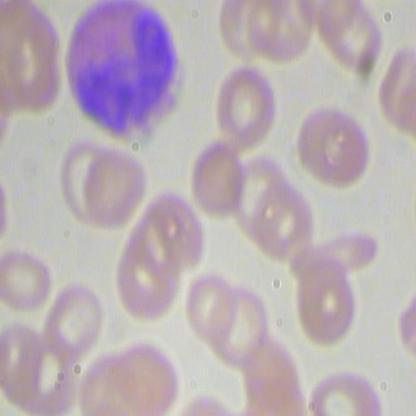RBC: (287, 103, 372, 190), (77, 142, 150, 230), (293, 257, 366, 345), (200, 283, 273, 371), (210, 61, 281, 150), (318, 1, 384, 86), (42, 273, 107, 359), (185, 140, 250, 225), (1, 228, 58, 313)
WBC: (60, 1, 192, 150)
